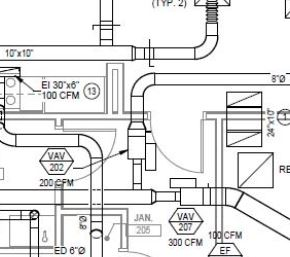VAV: (122, 114, 163, 172), (168, 173, 219, 210)
